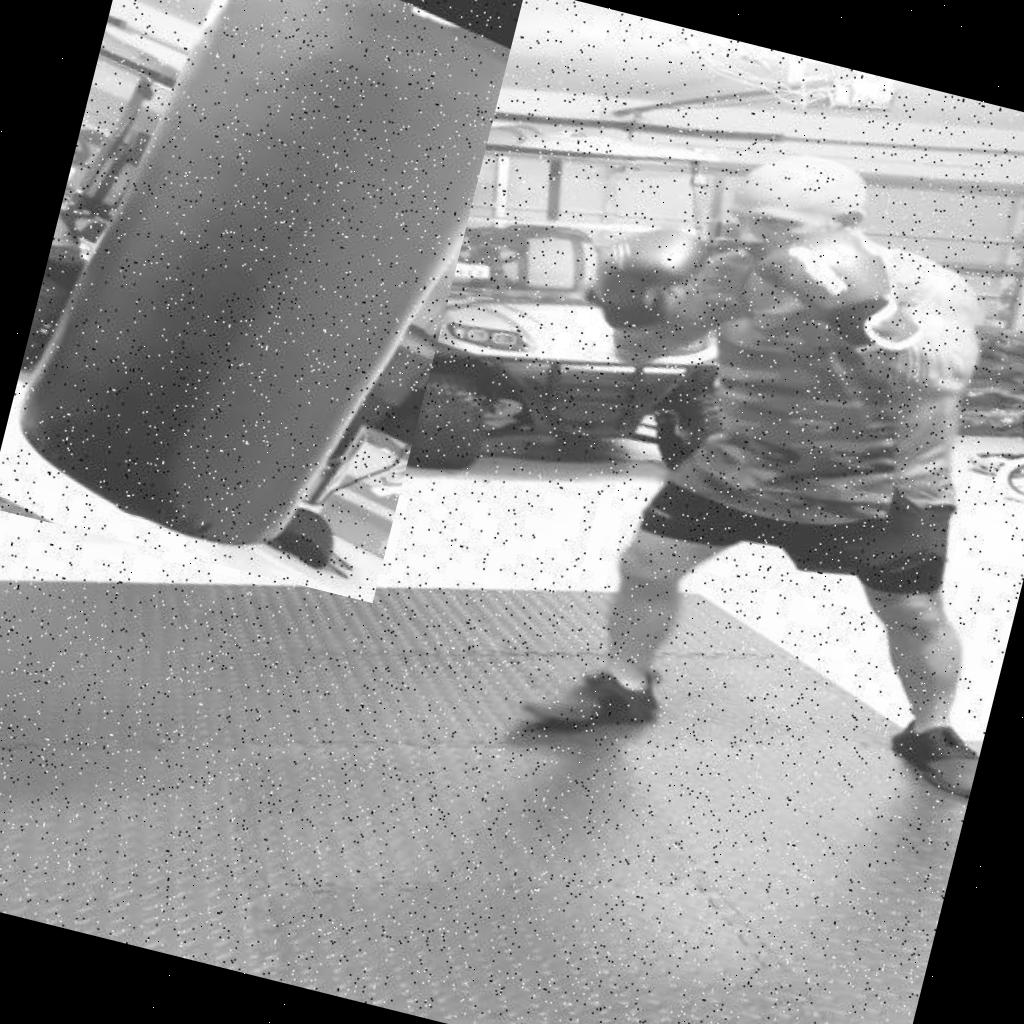bag: (0, 0, 523, 603)
no punch: (533, 74, 1024, 493)
